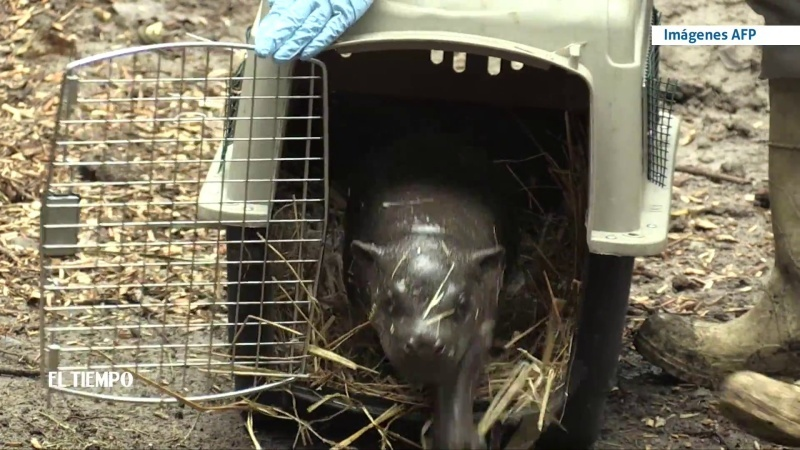hipopotamo: (343, 145, 522, 450)
